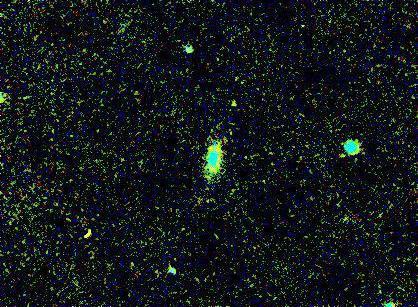star: (217, 91, 247, 121)
